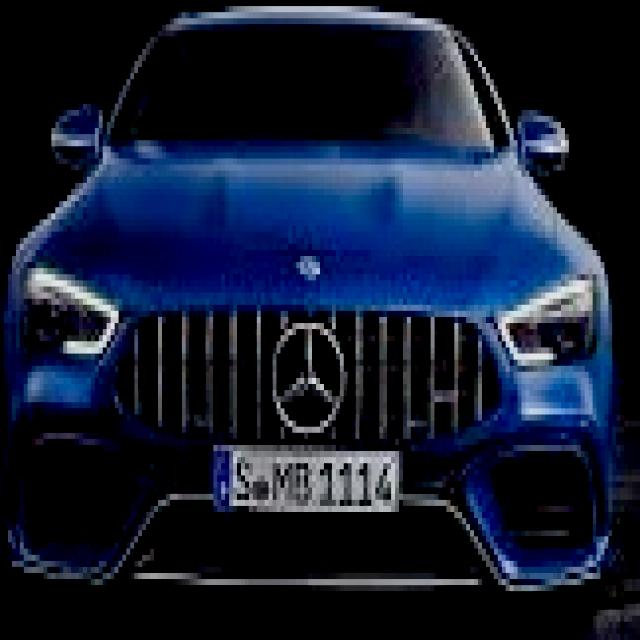blue: (3, 8, 616, 636)
